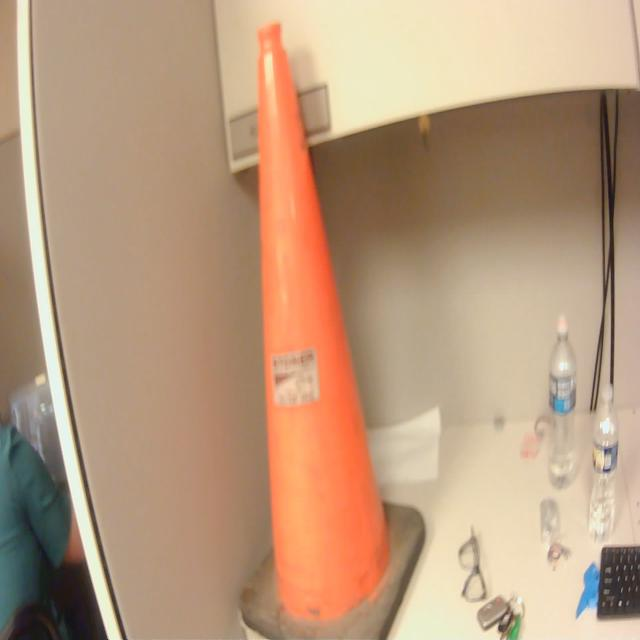traffic cone: (231, 16, 432, 640)
